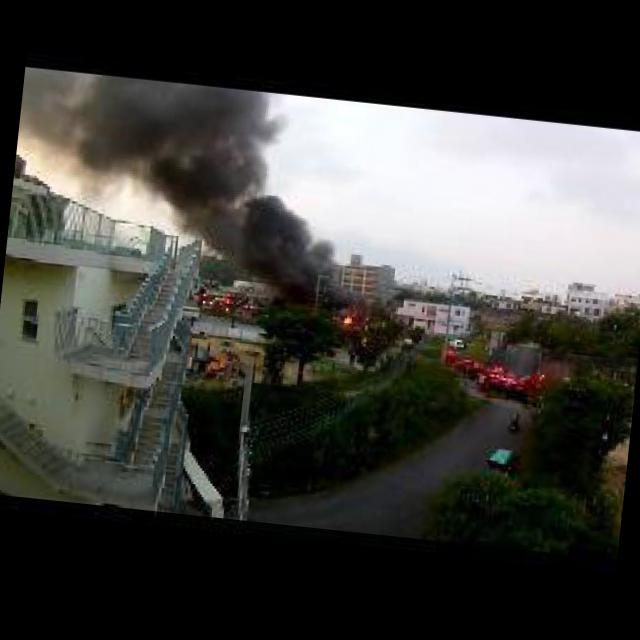fire: (341, 316, 354, 324)
smoke: (126, 77, 291, 246), (12, 0, 144, 128), (229, 206, 350, 310)
